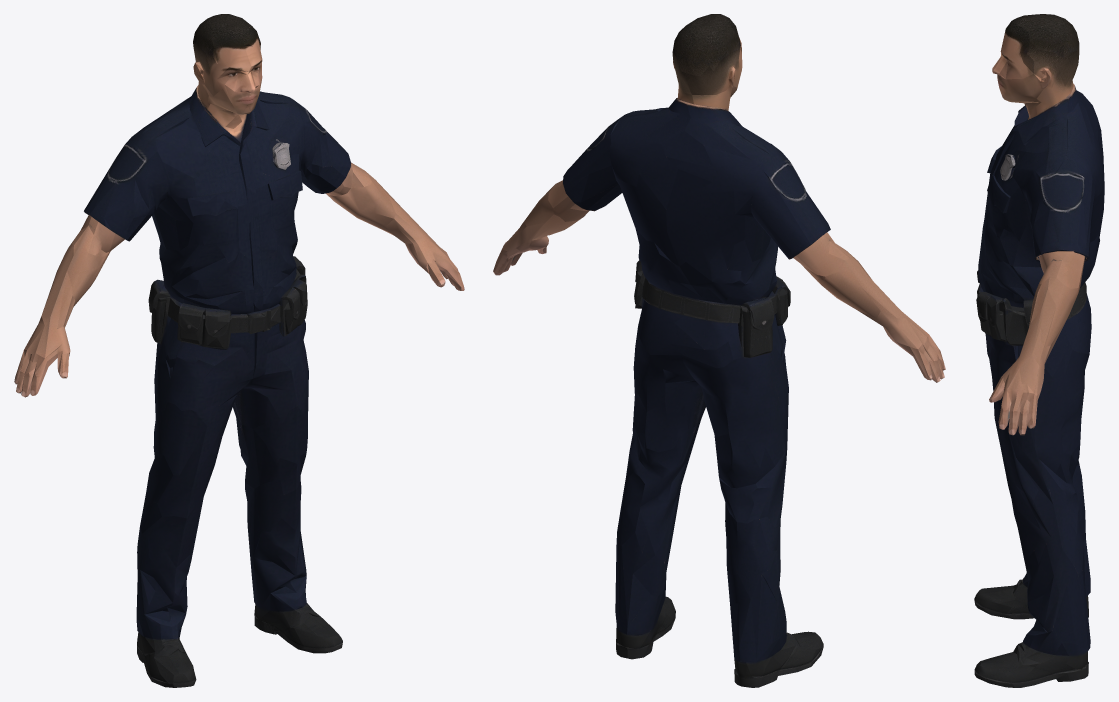
File: image3d.glb
3 views of the same model, side by side, from view 1: azimuth 30°, elevation 25°; view 2: azimuth 150°, elevation 25°; view 3: azimuth 270°, elevation 25° (orthographic).
Bounding box in the file's own units: 1.4 × 1.9 × 0.3582.
Materials: 1 (1 with a texture image).
